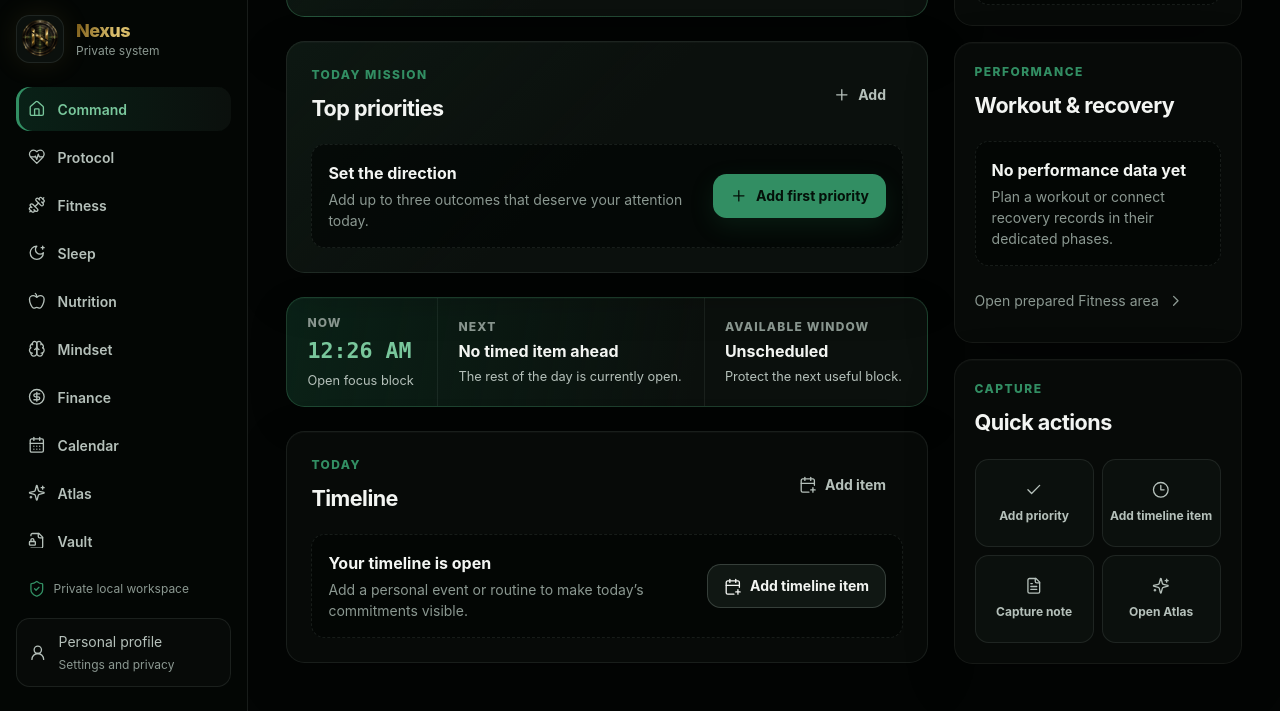
Command Center workflow › creates and edits a timeline item
(page scrolled)
Check: the heading "Your timeline is open" is shown, box 328,553 -> 491,573
Click the button "Add timeline item" in the row of "Your timeline is open".
click(797, 586)  # box 707,564 -> 886,608
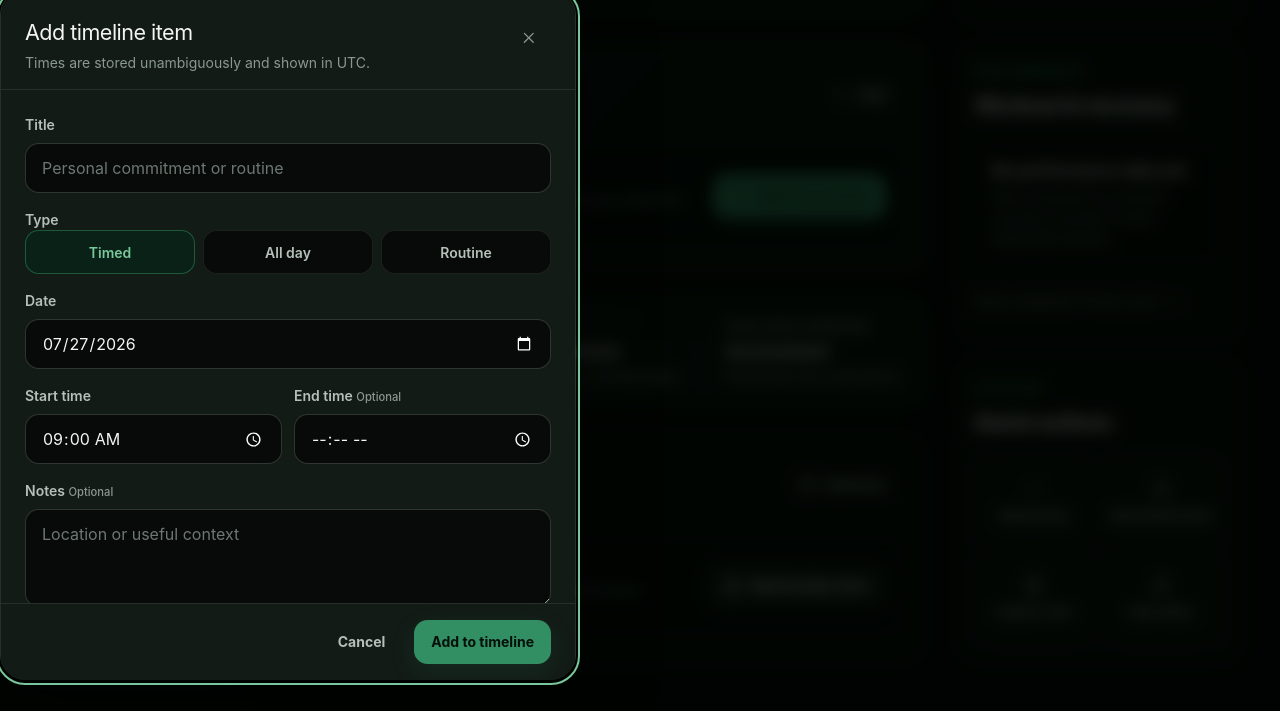
Type "Review the week" into the field labelled "Title".
click(288, 168); type("Review the week")  # box 25,143 -> 551,193
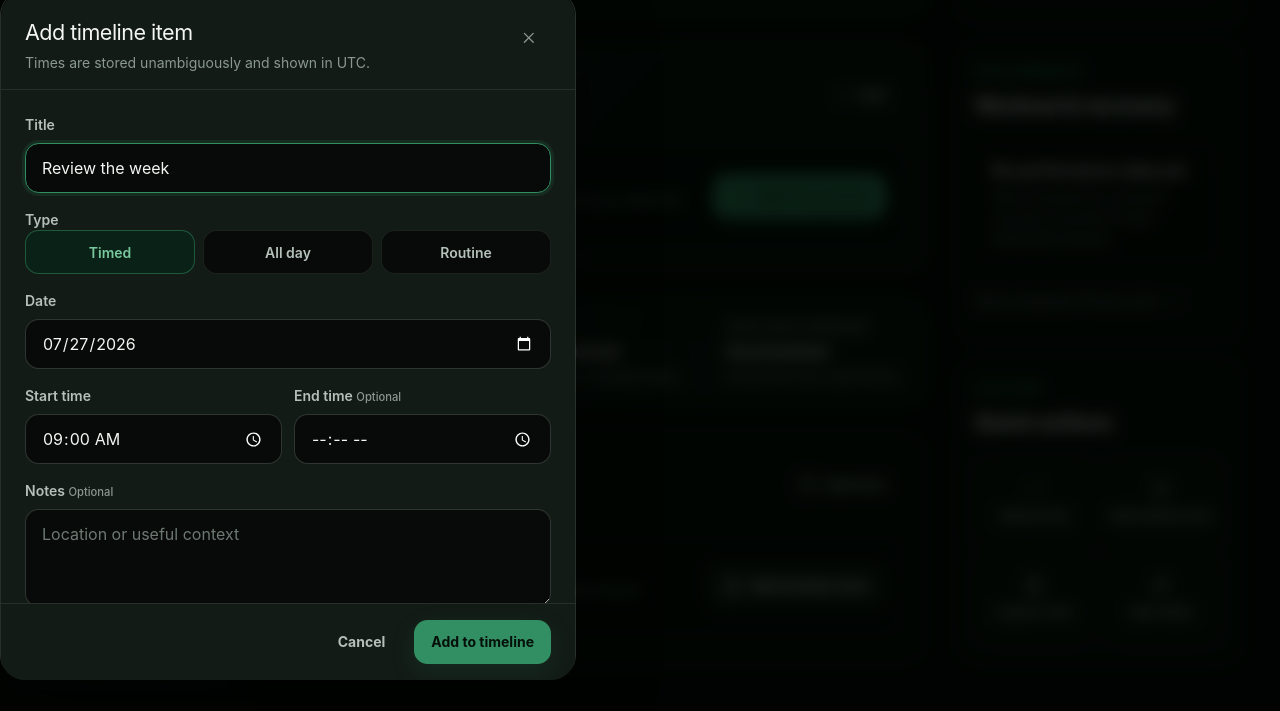
Click the button "Add to timeline".
click(483, 642)  # box 414,620 -> 551,664
(page scrolled)
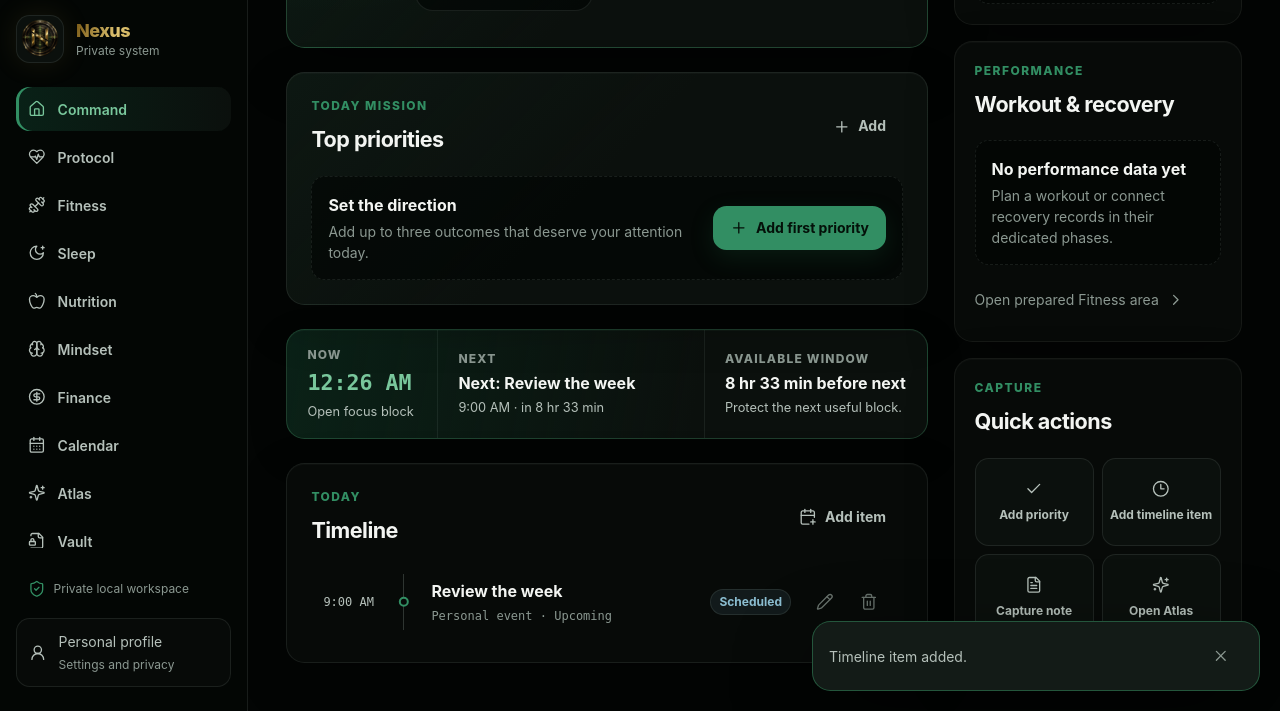
Check: the text "Review the week" is shown, box 431,581 -> 562,601
Click the button named "Edit Review the week".
click(825, 602)  # box 803,580 -> 847,624
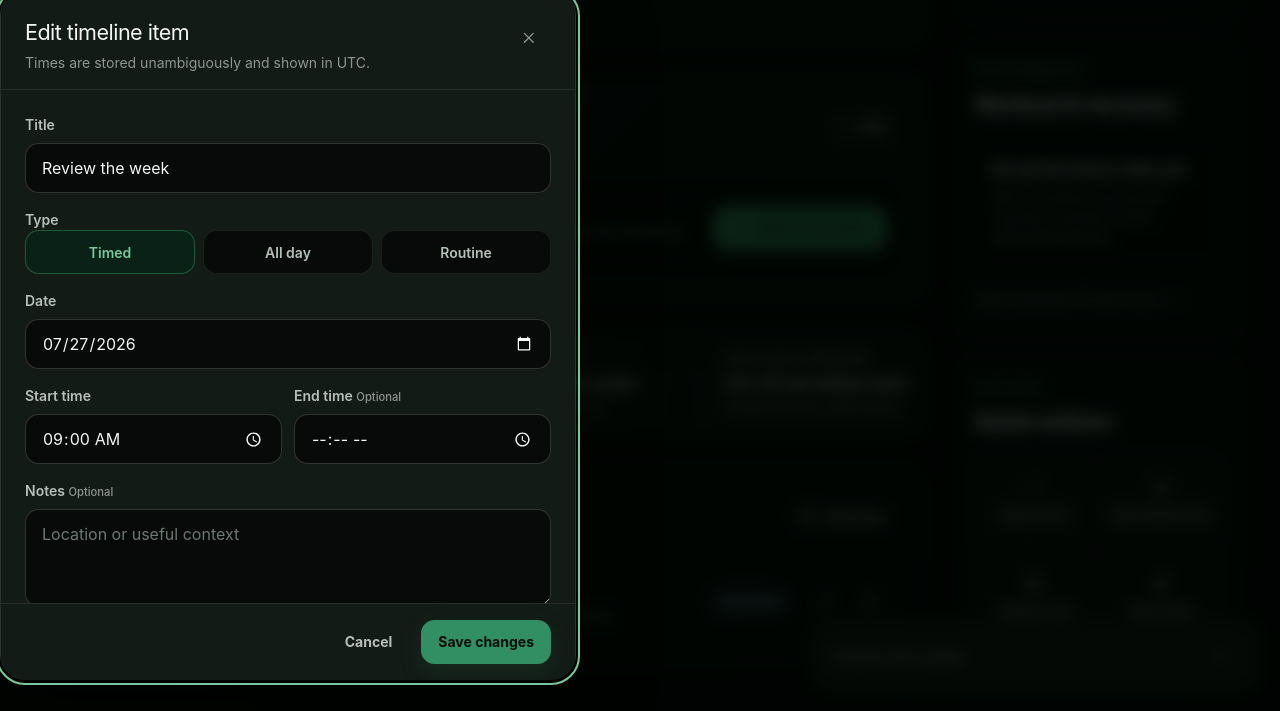
Replace the text in the field labelled "Title" with "Review and reset" at (288, 168), box 25,143 -> 551,193
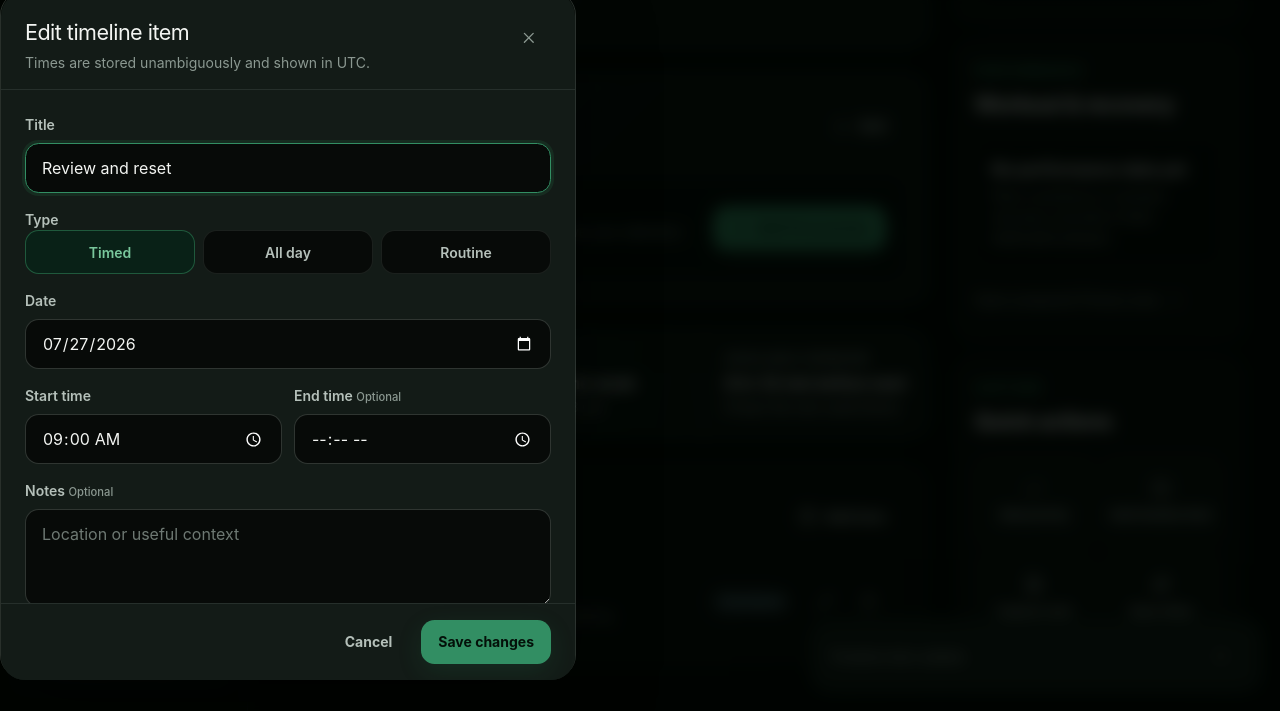
Click the button "Save changes".
click(486, 642)  # box 421,620 -> 551,664
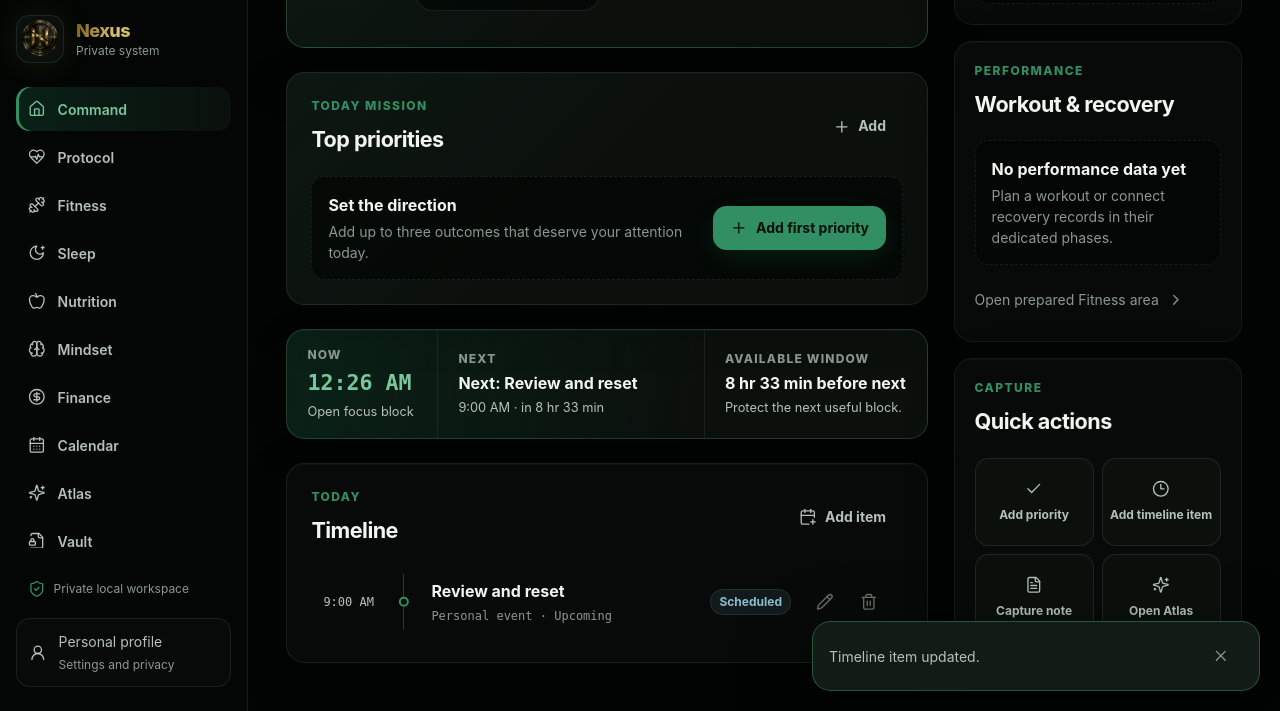
Check: the text "Review and reset" is shown, box 431,581 -> 565,601
